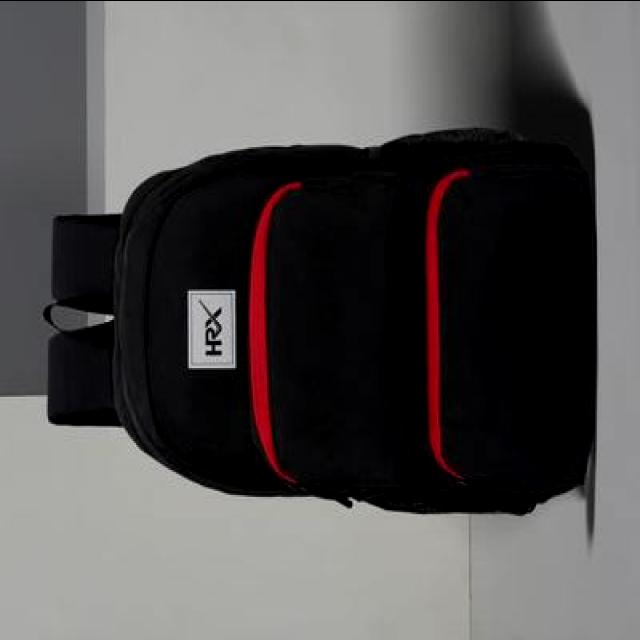backpack: (43, 128, 597, 518)
